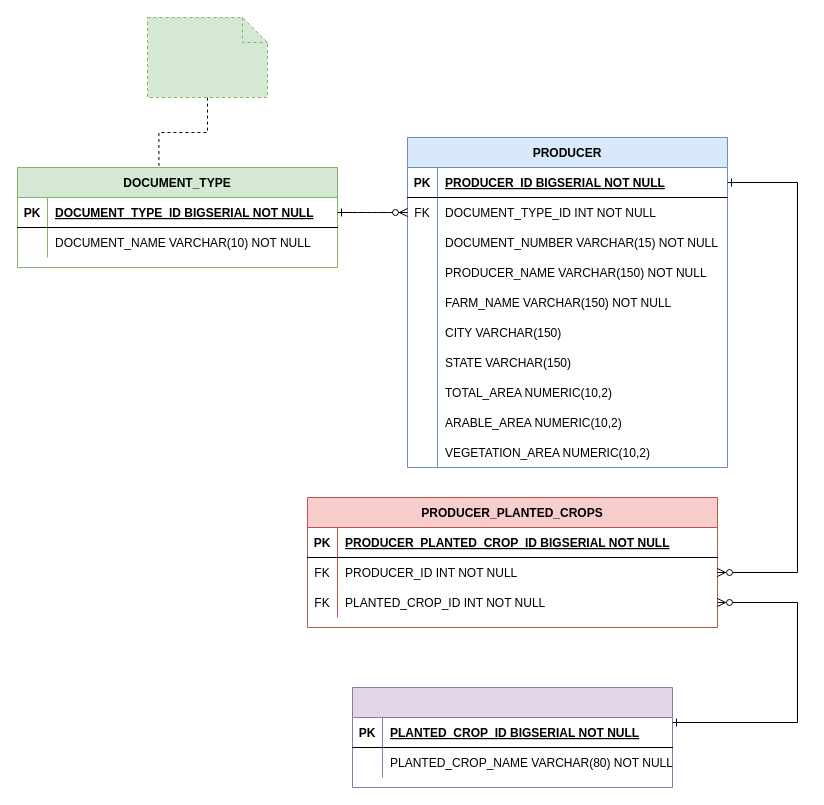
This 824x805 diagram has some shape labels left out. Each missing label, with the box of its shape:
PLANTED_CROPS: (352, 686, 672, 788)
Table for storing document types (CPF or CNPJ): (146, 16, 268, 98)
